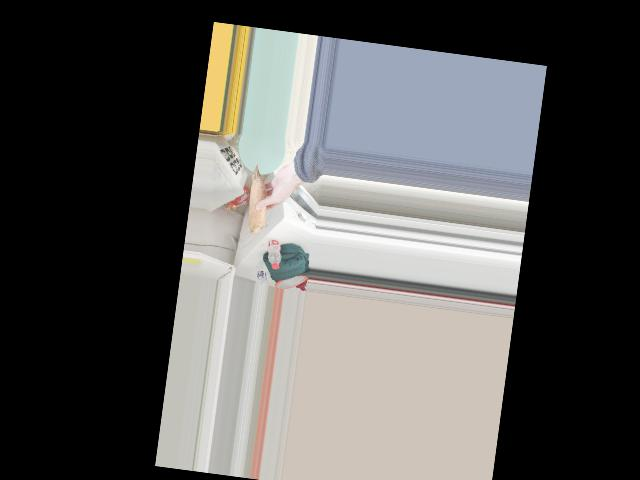sweet_potato: (246, 166, 276, 229)
